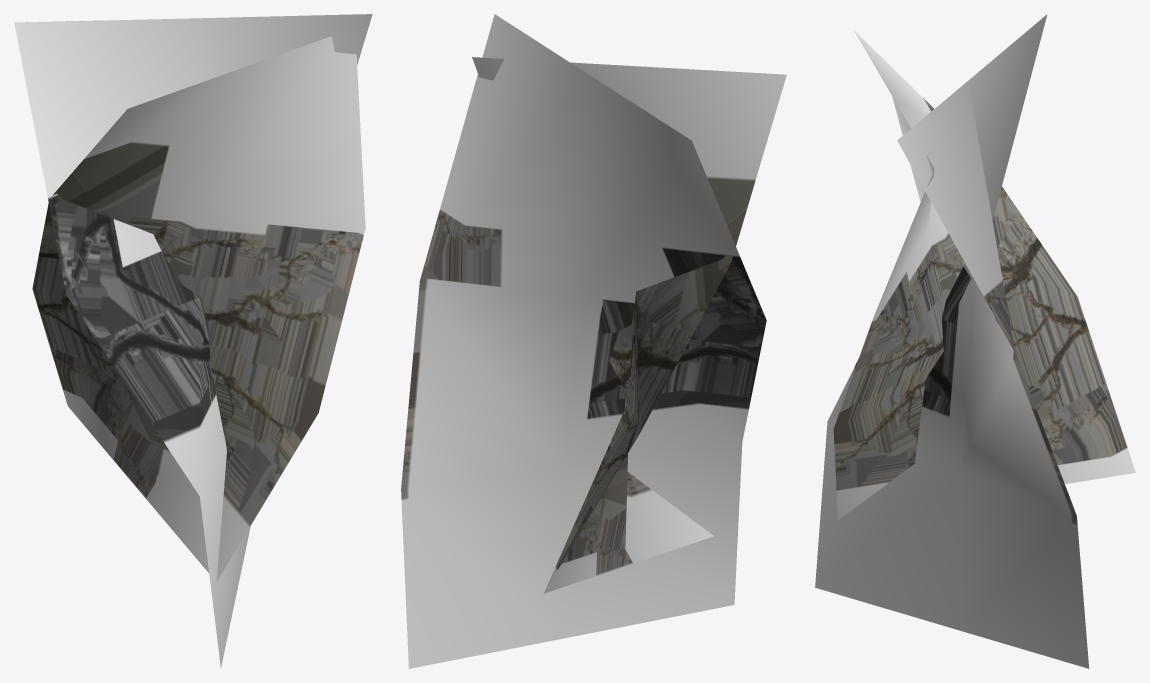
Rendered from Roots3.fbx.
3 renders of one model, left to right at view 1: azimuth 30°, elevation 25°; view 2: azimuth 150°, elevation 25°; view 3: azimuth 270°, elevation 25°, orthographic. The views are drawn at different scales.
Visible parts, largest first — view 1: polySurface23; view 2: polySurface23; view 3: polySurface23.
Part boxes in pixels (bbox=[...]): polySurface23: bbox=[14, 14, 372, 667]; polySurface23: bbox=[401, 14, 786, 668]; polySurface23: bbox=[815, 14, 1135, 668].
Bounding box in the file's own units: 1.11 × 2.03 × 1.1.
